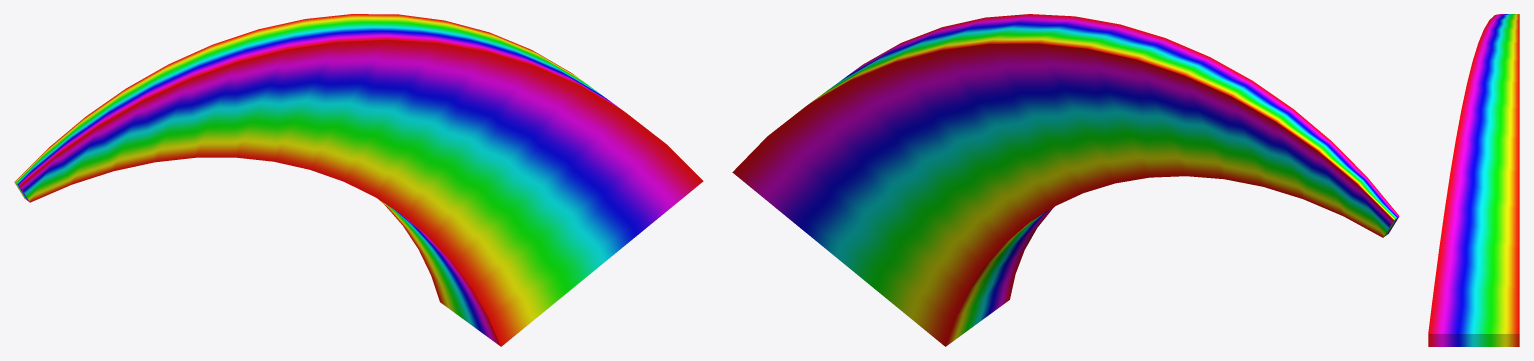
The model's file is raibow bend.FBX.
The picture shows the model from 3 angles, left to right: view 1: azimuth 30°, elevation 25°; view 2: azimuth 150°, elevation 25°; view 3: azimuth 270°, elevation 25°; orthographic projection. The views are drawn at different scales.
Visible parts, largest first — view 1: Box001; view 2: Box001; view 3: Box001.
Part boxes in pixels (x1,y1,x2,y2): Box001: (14, 14, 703, 346); Box001: (732, 14, 1399, 346); Box001: (1428, 14, 1519, 346).
Bounding box in the file's own units: 11.34 × 5.47 × 1.91.
